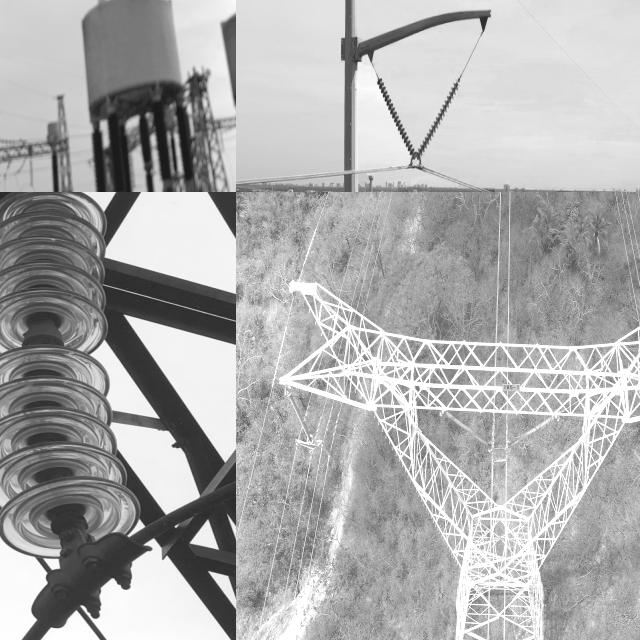杆塔: (264, 245, 640, 640)
正常绝缘子: (0, 192, 150, 570), (409, 65, 471, 176), (371, 69, 422, 169), (280, 376, 317, 463), (438, 404, 494, 455), (505, 408, 561, 454)
绝缘子破损: (17, 324, 72, 349)
